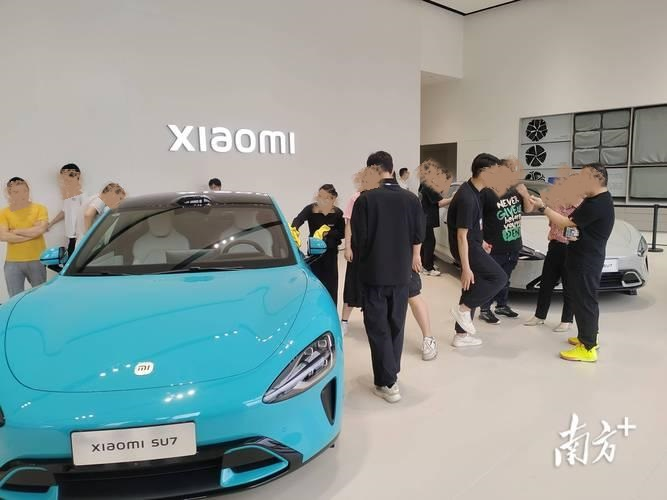XIAOMI: (134, 361, 154, 375)
